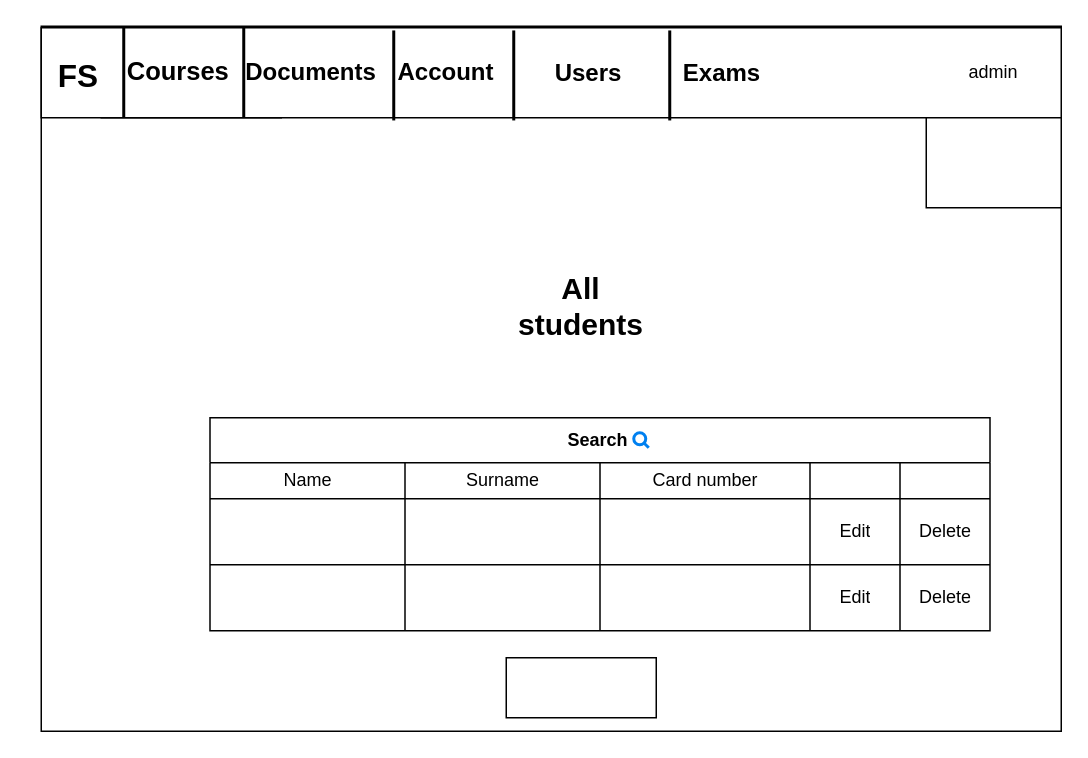
This 1088x758 diagram has some shape labels left out. Here are the shapes that lost their labels. From the top down, the centre of each, then its label:
At point (993, 162): "Logout".
At point (580, 687): "Add student".
